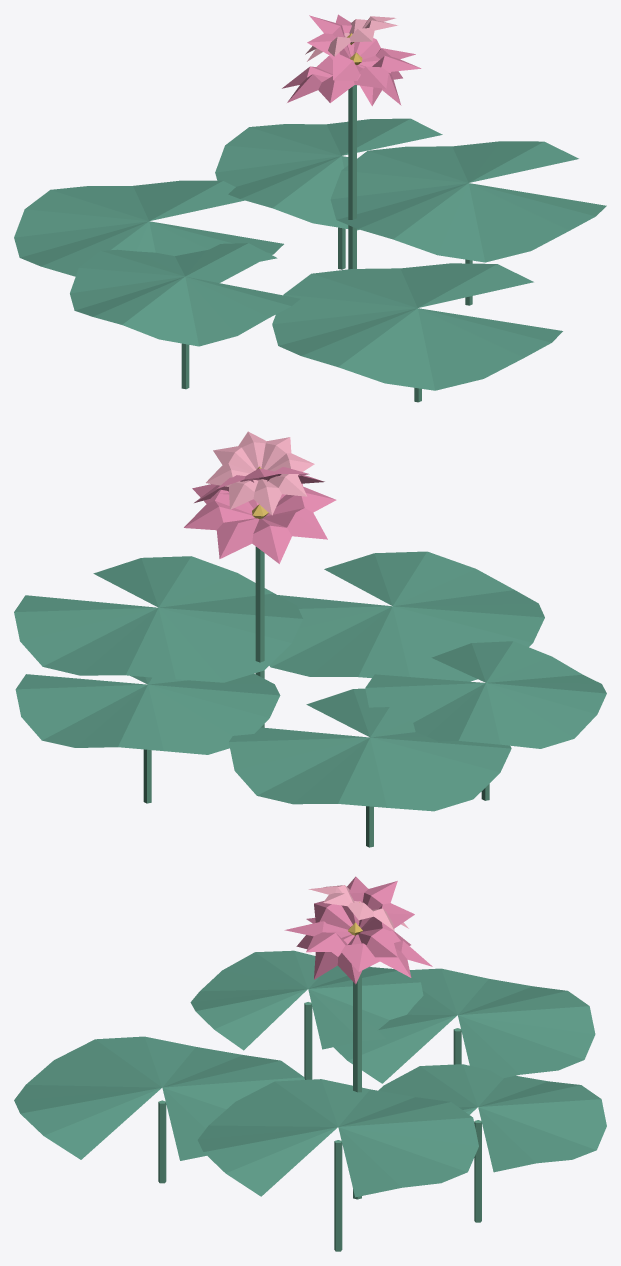
The model's file is lotus.glb.
3 renders of one model, top to bottom at view 1: azimuth 30°, elevation 25°; view 2: azimuth 150°, elevation 25°; view 3: azimuth 270°, elevation 25°, orthographic. The views are drawn at different scales.
Visible parts, largest first — view 1: Sunwen_lotus; view 2: Sunwen_lotus; view 3: Sunwen_lotus.
Part boxes in pixels (bbox=[...]): Sunwen_lotus: bbox=[14, 14, 606, 402]; Sunwen_lotus: bbox=[14, 431, 606, 847]; Sunwen_lotus: bbox=[14, 876, 606, 1251].
Size of the model in its own units: 1.89 by 1.07 by 1.85.
